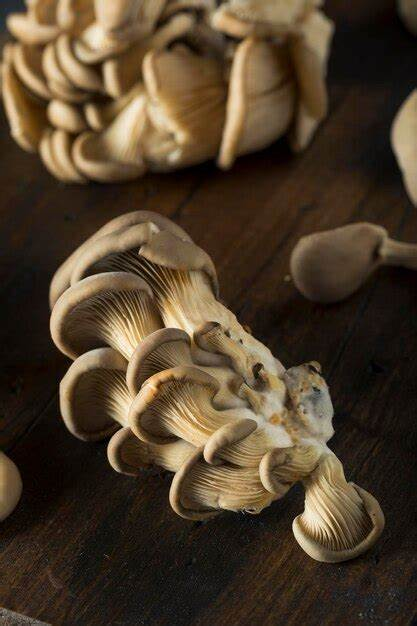Mushroom: (38, 202, 391, 586), (0, 0, 356, 206)
